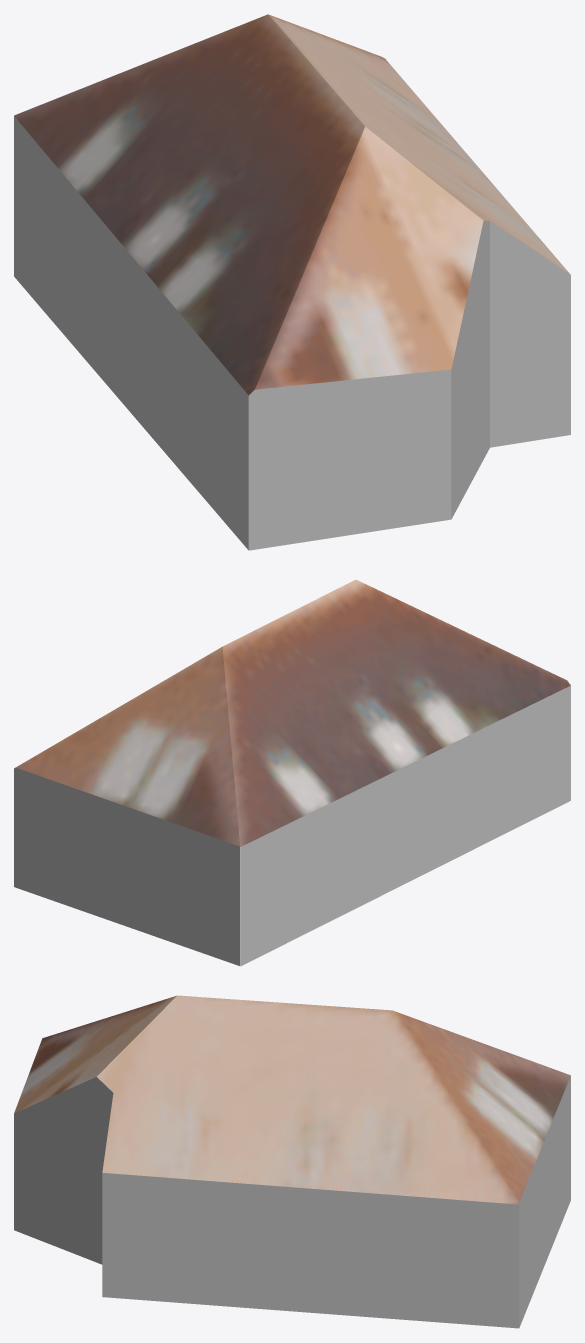
Rendered from DEBW_0010007Txb6.gltf.
3 renders of one model, top to bottom at view 1: azimuth 30°, elevation 25°; view 2: azimuth 150°, elevation 25°; view 3: azimuth 270°, elevation 25°, orthographic. The views are drawn at different scales.
Parts seen in each view (by area): view 1: Z_UP; view 2: Z_UP; view 3: Z_UP.
Boxes of the visible parts, left/top/right/bottom form: Z_UP: left=14, top=14, right=570, bottom=550; Z_UP: left=14, top=579, right=570, bottom=966; Z_UP: left=14, top=995, right=570, bottom=1328.
Size of the model in its own units: 11.83 by 7.97 by 16.58.
Materials: 2 (1 with a texture image).
